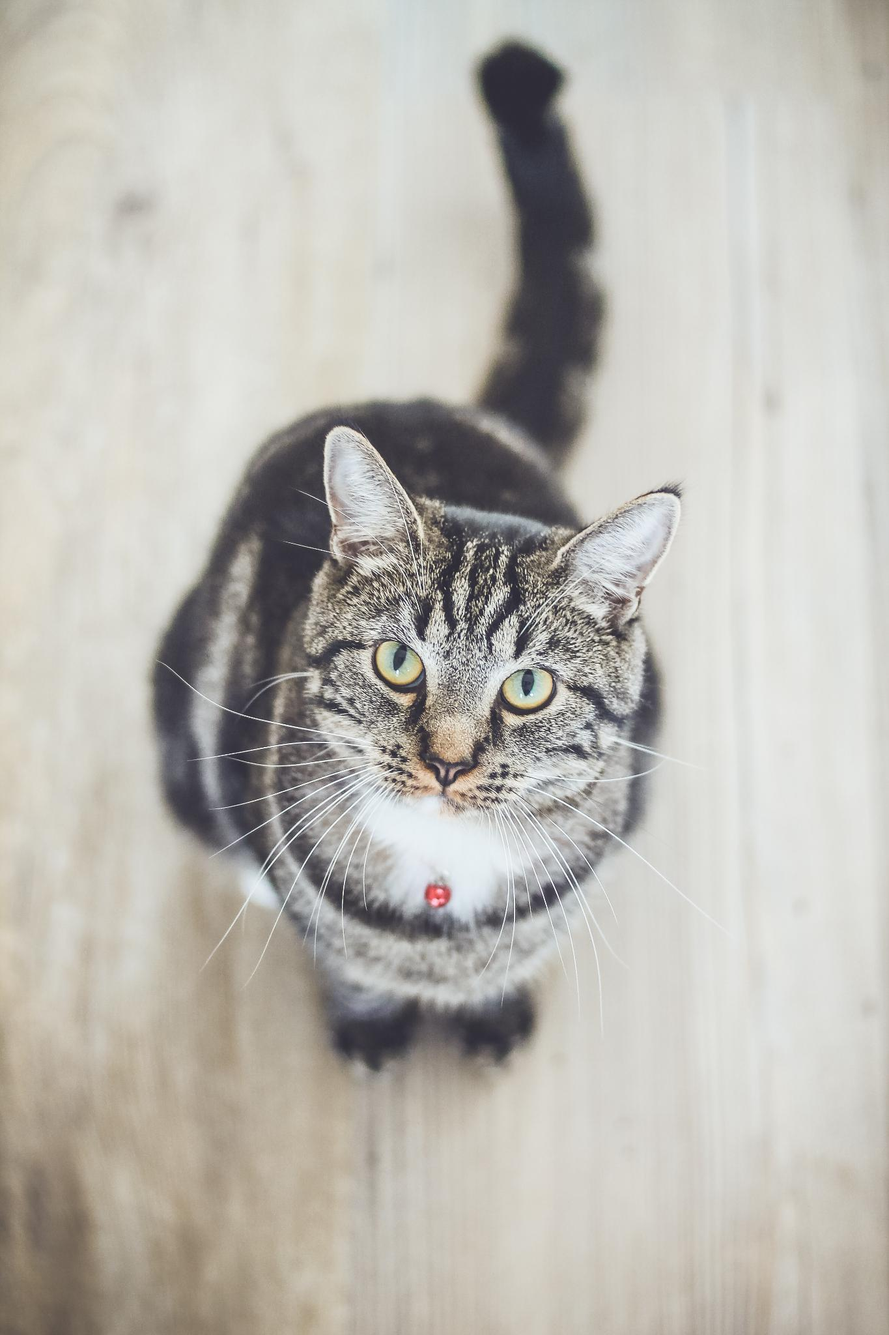cat: (148, 36, 719, 1076)
